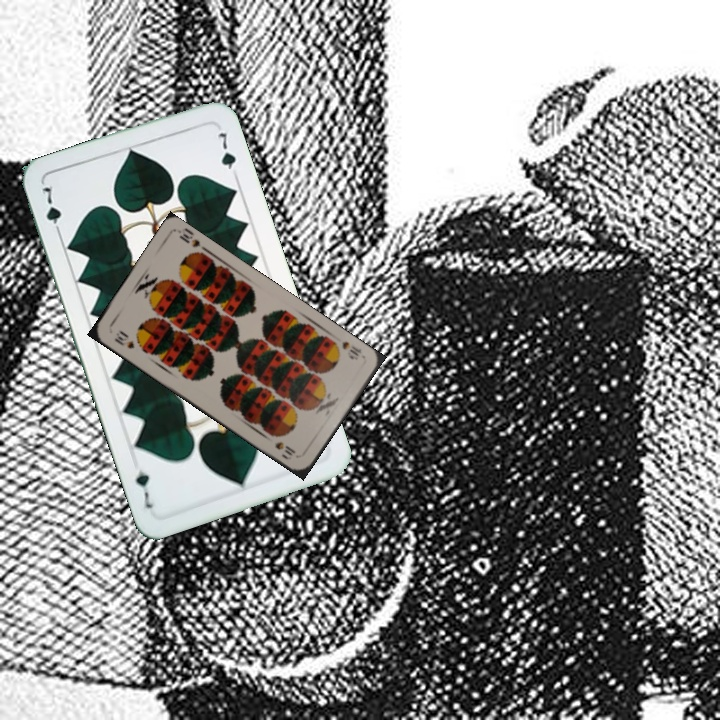G7: (38, 181, 64, 239)
S10: (329, 337, 365, 362), (110, 327, 137, 351)
